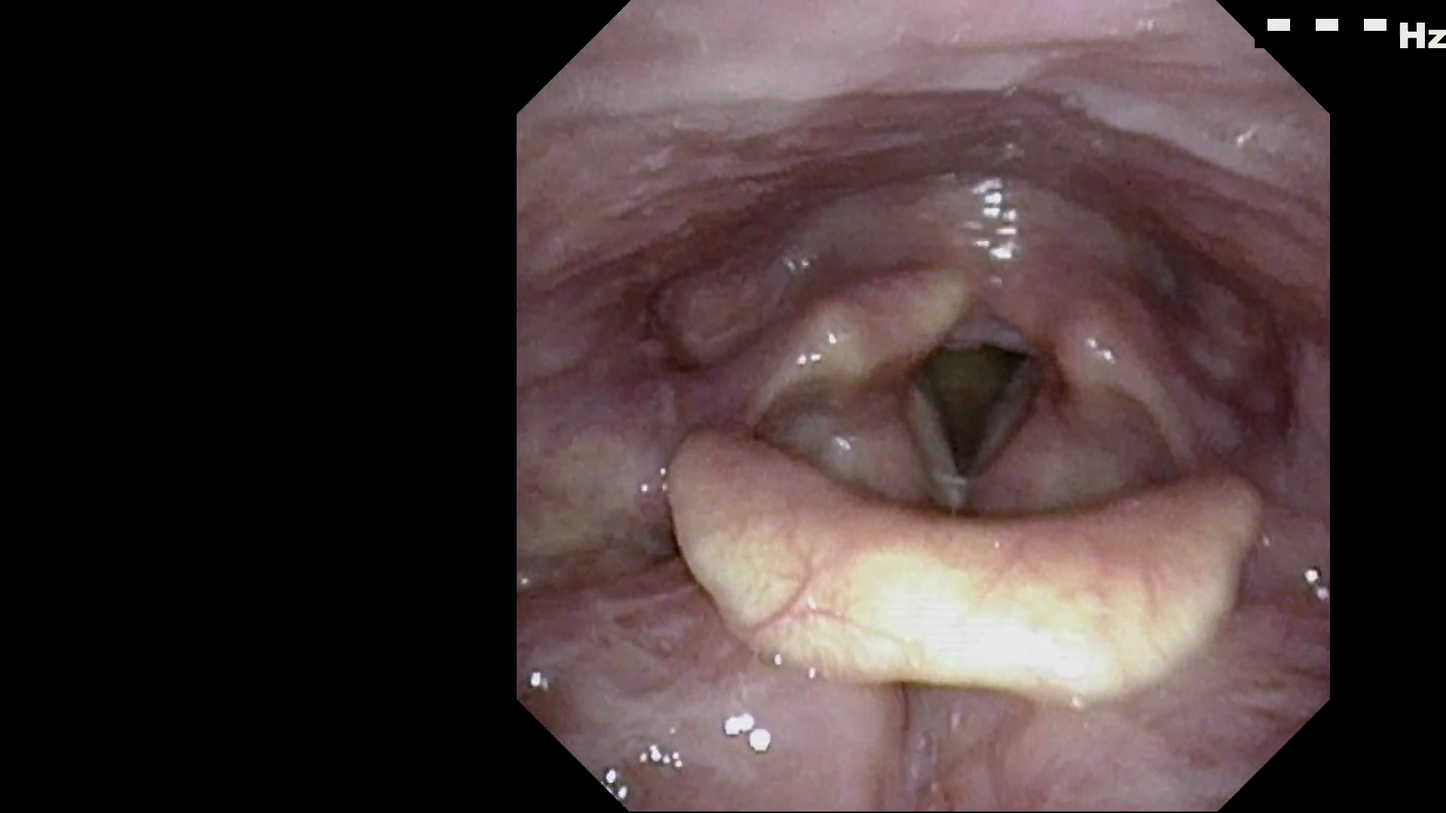epiglottis: (659, 411, 1276, 693)
trachea: (889, 315, 1055, 488)
